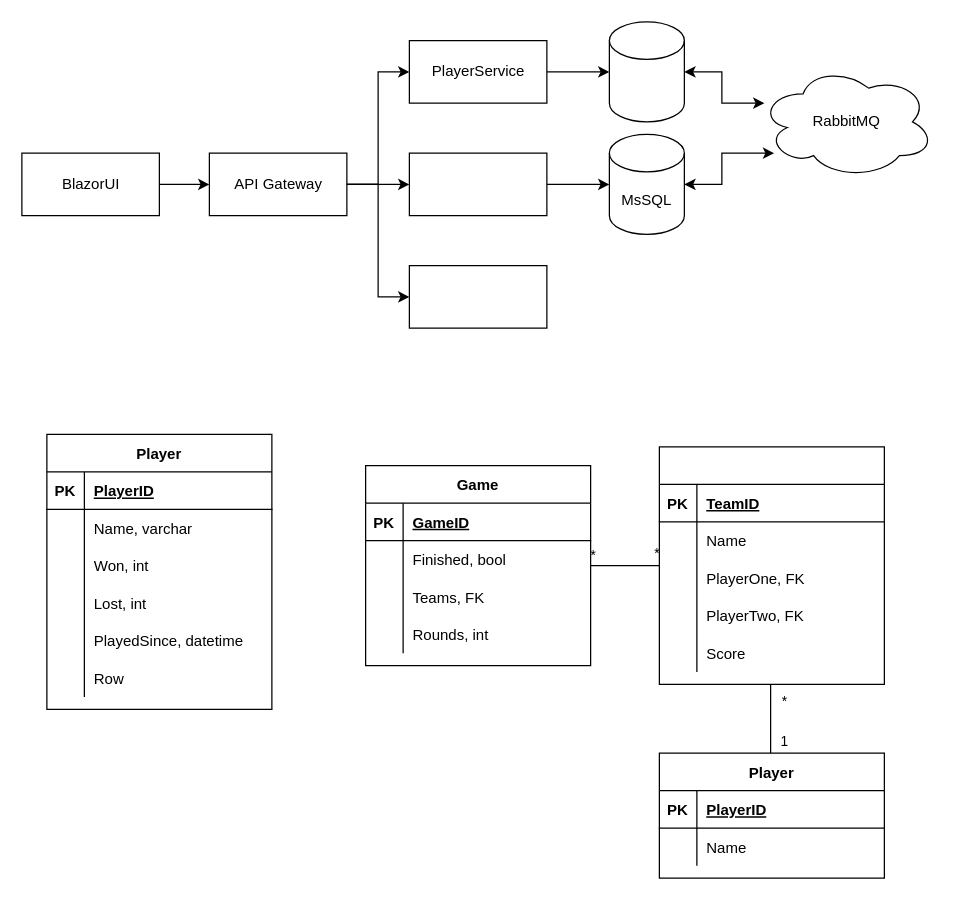
Some shapes in this 956 by 900 pixel diagram are drawn without their labels. Each missing label, with the box of its shape:
CardDeckService: (408, 264, 547, 328)
GameService: (408, 152, 547, 216)
RavenDB: (608, 21, 684, 122)
Teams: (658, 446, 884, 684)
